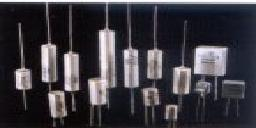Electrolytic-Capacitor: (9, 19, 36, 111), (122, 4, 141, 114), (143, 4, 168, 84), (39, 2, 61, 87), (94, 19, 122, 78), (171, 25, 189, 108), (192, 41, 228, 79), (220, 78, 248, 125), (87, 76, 108, 128), (140, 84, 162, 127), (163, 102, 186, 128), (49, 89, 68, 118)
